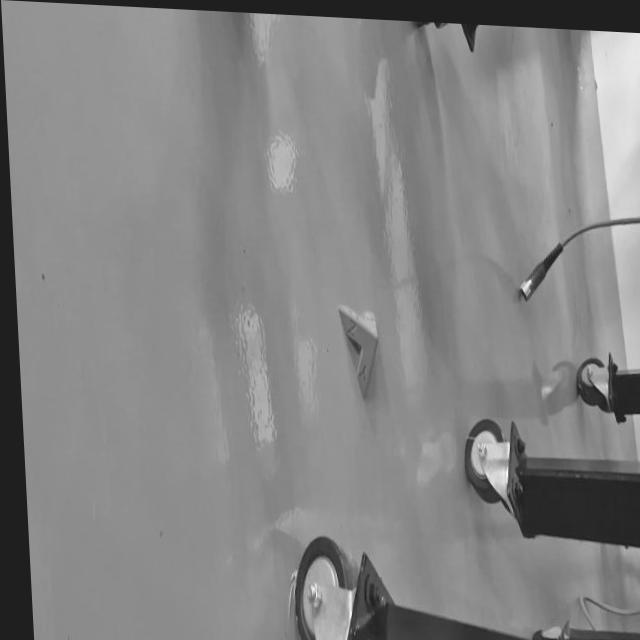eje: (336, 302, 381, 402)
